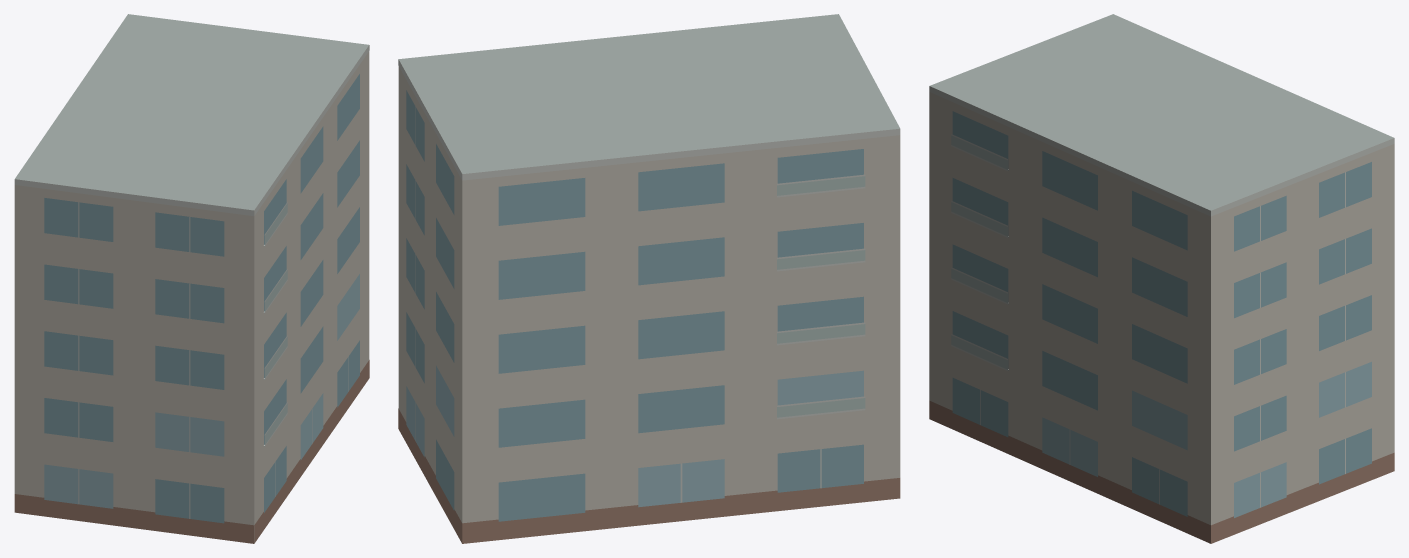
File: survey-upis-32578240.glb
The picture shows the model from 3 angles, left to right: view 1: azimuth 30°, elevation 25°; view 2: azimuth 150°, elevation 25°; view 3: azimuth 270°, elevation 25°; orthographic projection. The views are drawn at different scales.
Parts seen in each view (by area): view 1: survey-upis-32578240.tmp; view 2: survey-upis-32578240.tmp; view 3: survey-upis-32578240.tmp.
Part boxes in pixels (x1=…): survey-upis-32578240.tmp: x1=14, y1=14, x2=369, y2=543; survey-upis-32578240.tmp: x1=398, y1=14, x2=900, y2=543; survey-upis-32578240.tmp: x1=929, y1=14, x2=1394, y2=543.
Size of the model in its own units: 17.87 by 14.1 by 17.86.
